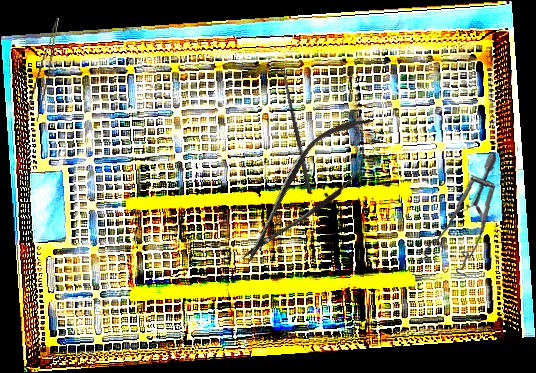Micro Scissor: (222, 99, 392, 282)
Speculum: (415, 153, 503, 279)
Surgical Spoon: (281, 68, 313, 195)
Tissue Forceps: (25, 15, 60, 123)
